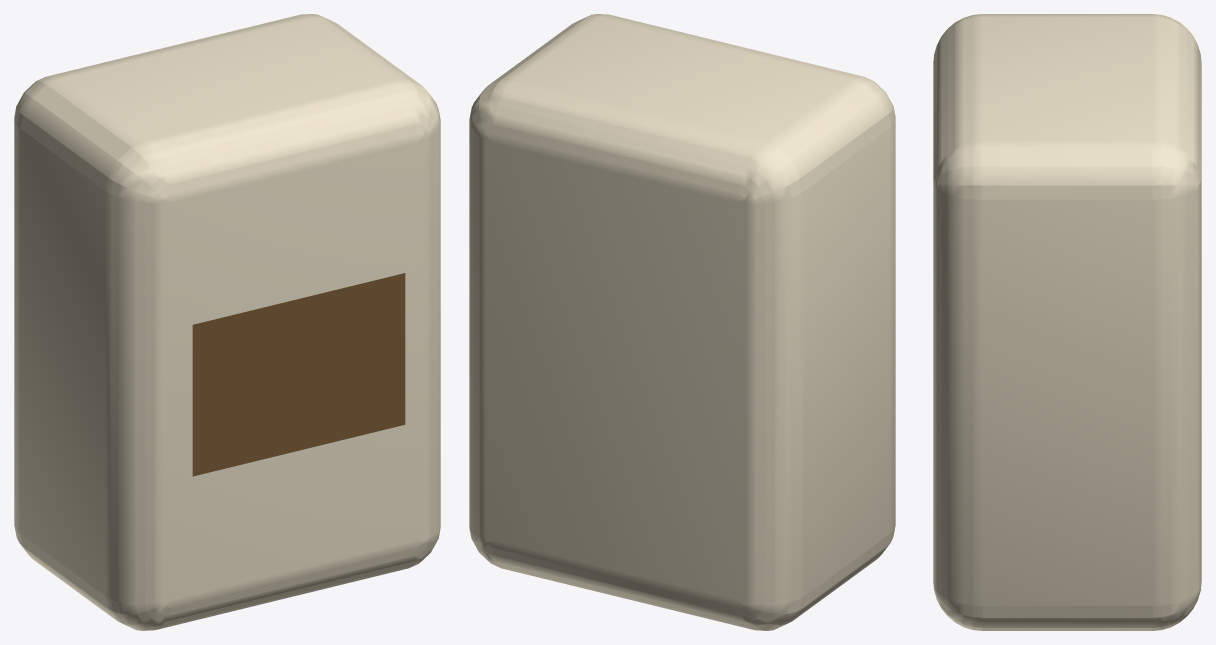
The model's file is product-flour.glb.
3 views of the same model, side by side, from view 1: azimuth 30°, elevation 25°; view 2: azimuth 150°, elevation 25°; view 3: azimuth 270°, elevation 25° (orthographic).
Visible parts, largest first — view 1: n3, n4; view 2: n3; view 3: n3.
Boxes of the visible parts, box(x1,y1,x2,y2) form: n3: box(14, 14, 440, 630); n4: box(192, 273, 405, 476); n3: box(469, 14, 895, 630); n3: box(933, 14, 1201, 630).
Bounding box in the file's own units: 0.17 × 0.24 × 0.124.
